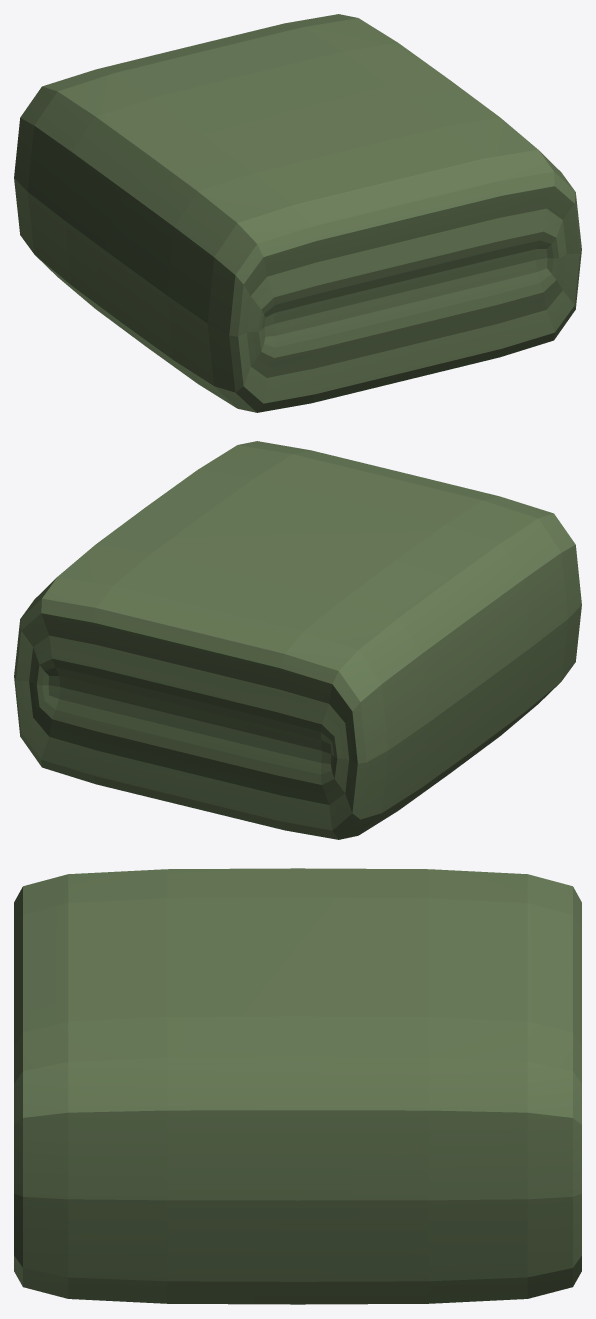
Rendered from Clothes4_C4.fbx.
3 views of the same model, one above another, from view 1: azimuth 30°, elevation 25°; view 2: azimuth 150°, elevation 25°; view 3: azimuth 270°, elevation 25° (orthographic). The views are drawn at different scales.
Visible parts, largest first — view 1: Clothes4_C4; view 2: Clothes4_C4; view 3: Clothes4_C4.
Part boxes in pixels (left/top/right/bottom): Clothes4_C4: left=14, top=14, right=581, bottom=412; Clothes4_C4: left=14, top=441, right=581, bottom=839; Clothes4_C4: left=14, top=868, right=581, bottom=1304.
Size of the model in its own units: 22.53 by 11.96 by 23.8.
